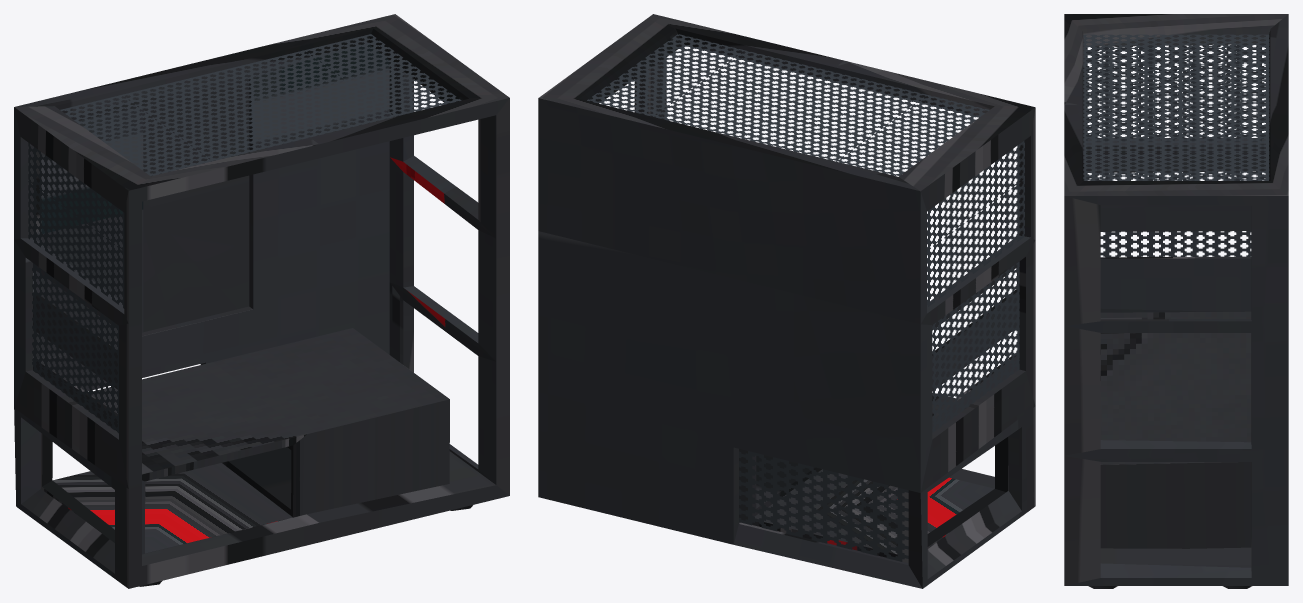
File: Gab_M.fbx
3 renders of one model, left to right at view 1: azimuth 30°, elevation 25°; view 2: azimuth 150°, elevation 25°; view 3: azimuth 270°, elevation 25°, orthographic. The views are drawn at different scales.
Parts seen in each view (by area): view 1: GabMedio, GradeMedio; view 2: GabMedio, GradeMedio; view 3: GabMedio, GradeMedio.
Boxes of the visible parts, x1=… form: GabMedio: x1=14, y1=14, x2=509, y2=588; GradeMedio: x1=28, y1=34, x2=461, y2=433; GabMedio: x1=538, y1=14, x2=1035, y2=588; GradeMedio: x1=587, y1=34, x2=1024, y2=561; GabMedio: x1=1064, y1=14, x2=1288, y2=588; GradeMedio: x1=1083, y1=34, x2=1269, y2=257.
Size of the model in its own units: 2001 by 2056 by 1041.
